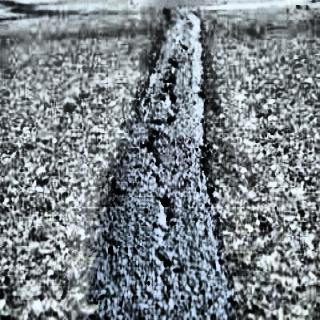crack: (138, 61, 194, 308)
